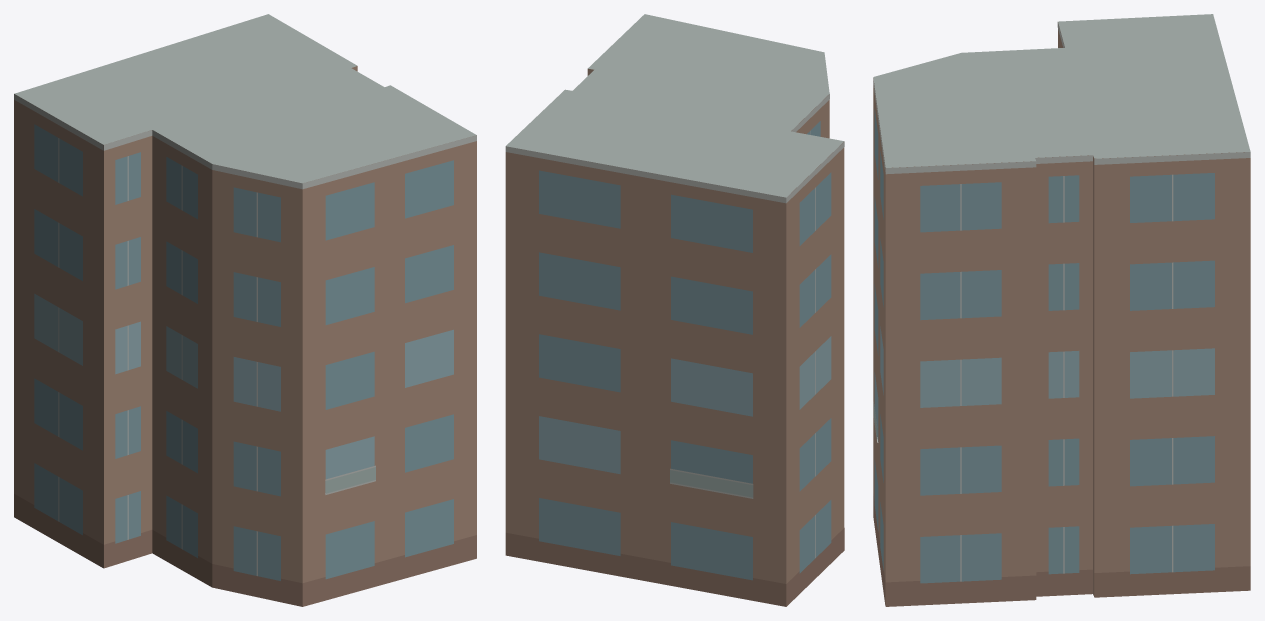
Rendered from survey-upis-32790806.glb.
3 views of the same model, side by side, from view 1: azimuth 30°, elevation 25°; view 2: azimuth 150°, elevation 25°; view 3: azimuth 270°, elevation 25° (orthographic). The views are drawn at different scales.
Parts seen in each view (by area): view 1: survey-upis-32790806.tmp; view 2: survey-upis-32790806.tmp; view 3: survey-upis-32790806.tmp.
Boxes of the visible parts, x1=… form: survey-upis-32790806.tmp: x1=14, y1=14, x2=476, y2=606; survey-upis-32790806.tmp: x1=505, y1=14, x2=844, y2=606; survey-upis-32790806.tmp: x1=873, y1=14, x2=1250, y2=606.
Bounding box in the file's own units: 13.11 × 17.4 × 13.57.
